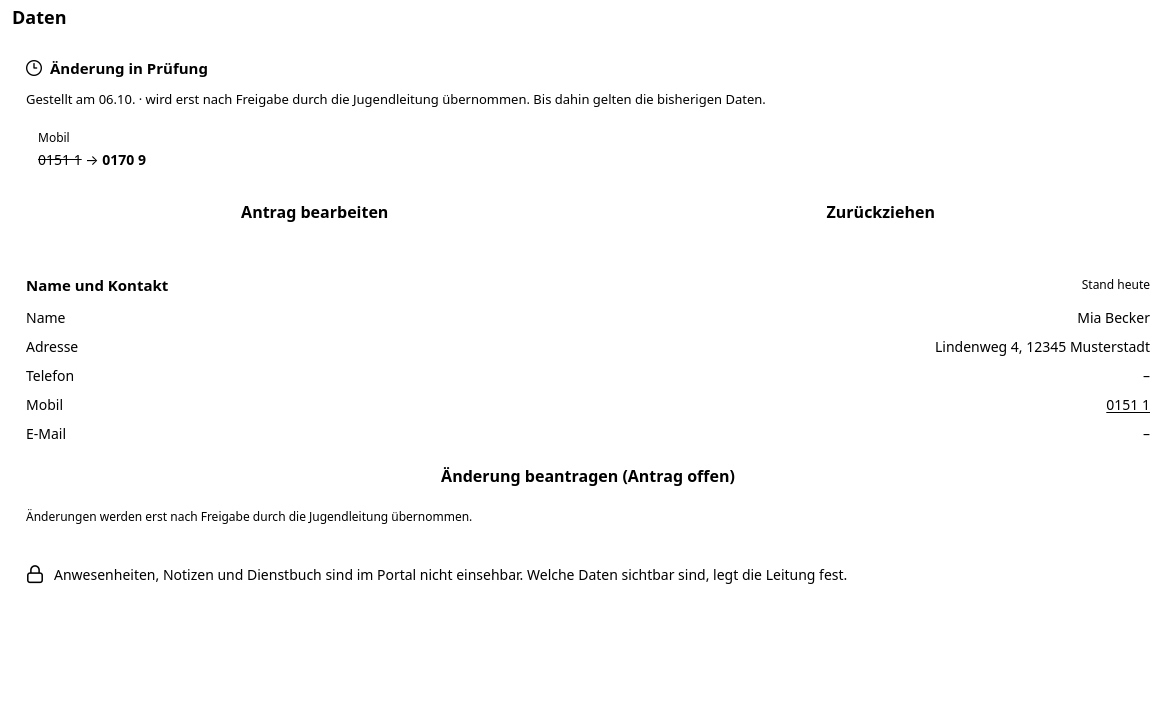
Scenario: PortalDataView › withdraws the open request and drops the banner
Click the button "Zurückziehen" at (881, 212), box [612,190,1150,234]
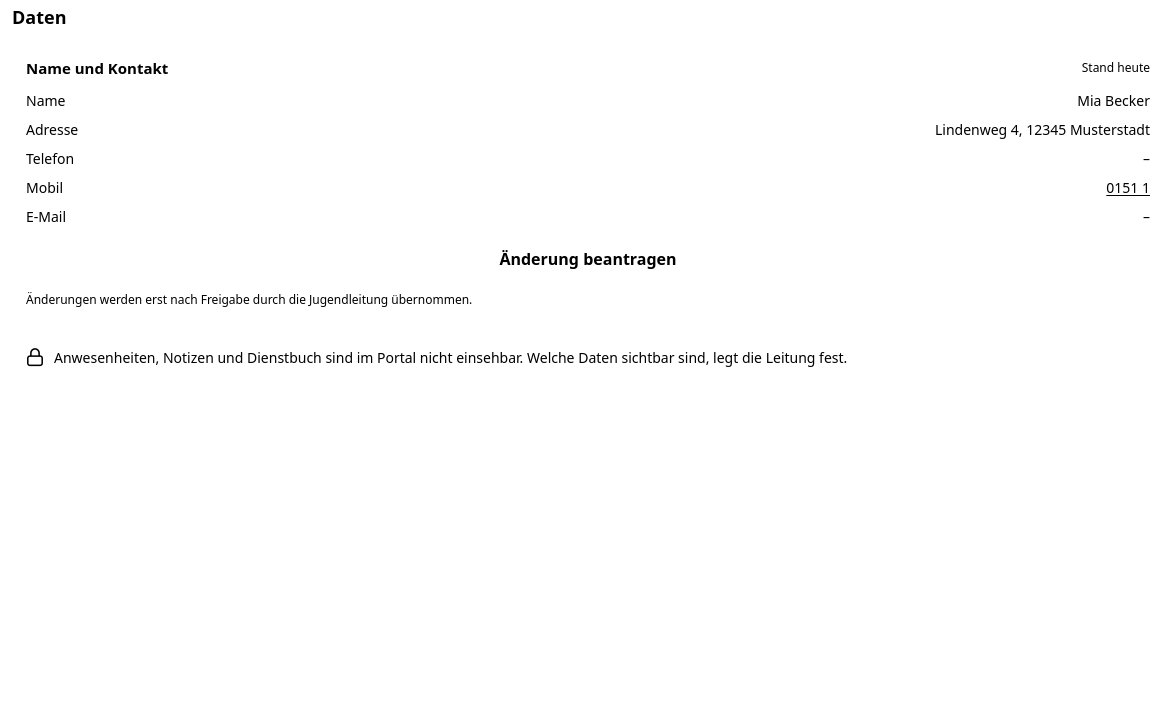
Expected: the text "Änderung in Prüfung" is gone
